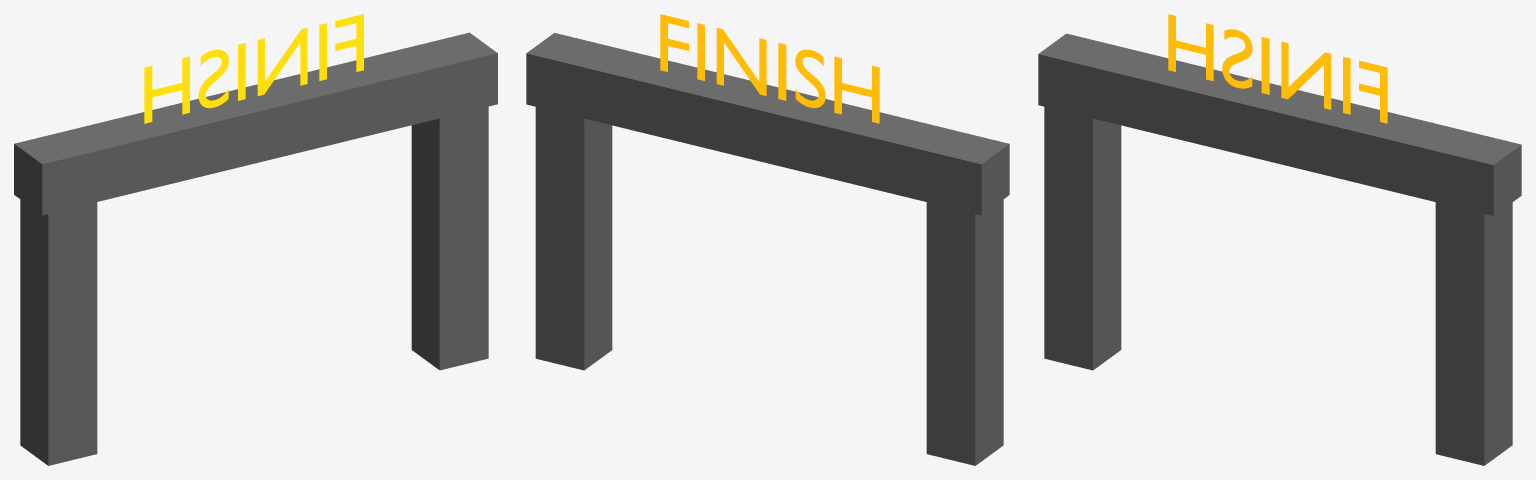
File: endgate.fbx
3 views of the same model, side by side, from view 1: azimuth 30°, elevation 25°; view 2: azimuth 150°, elevation 25°; view 3: azimuth 330°, elevation 25° (orthographic).
Parts seen in each view (by area): view 1: End Gate.002, End Gate, End Gate.001, Text; view 2: End Gate.002, End Gate, End Gate.001, Text; view 3: End Gate.002, End Gate.001, End Gate, Text.
Part boxes in pixels (x1,y1,x2,y2): End Gate.002: (14,32,497,215); End Gate: (20,199,97,465); End Gate.001: (411,106,488,370); Text: (144,14,363,123); End Gate.002: (526,33,1009,215); End Gate: (926,199,1003,465); End Gate.001: (535,104,612,370); Text: (660,14,879,123); End Gate.002: (1038,33,1521,216); End Gate.001: (1435,202,1512,465); End Gate: (1044,104,1121,370); Text: (1168,14,1387,123).
Size of the model in its own units: 1867 by 1418 by 200.
